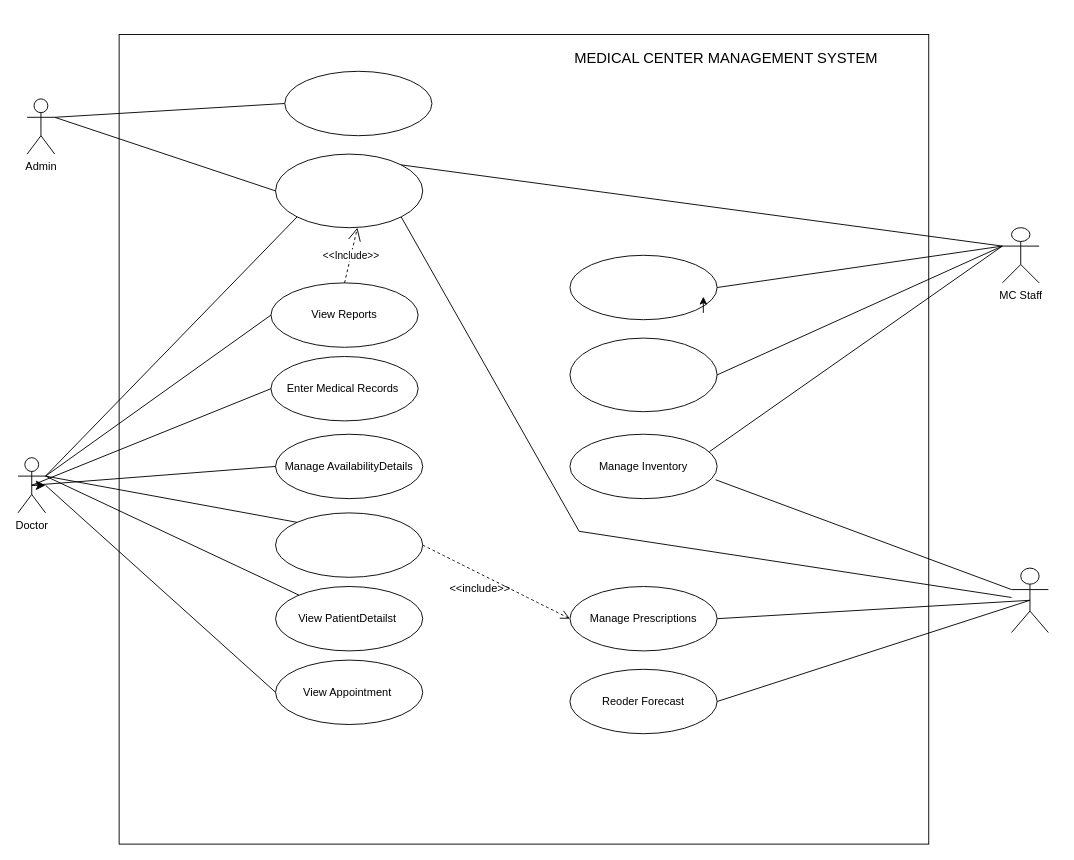
This 1074x860 diagram has some shape labels left out. The box of each missing label's shape, as (x1, y1, x2, y2) in pixels:
Add Prescriptions: (275, 512, 423, 577)
Login System: (275, 153, 423, 228)
Manage Appointments: (569, 254, 717, 320)
Manage Patients: (569, 337, 717, 412)
Pharmacist: (1011, 567, 1048, 632)
System Configuration & Backup: (284, 70, 432, 136)
